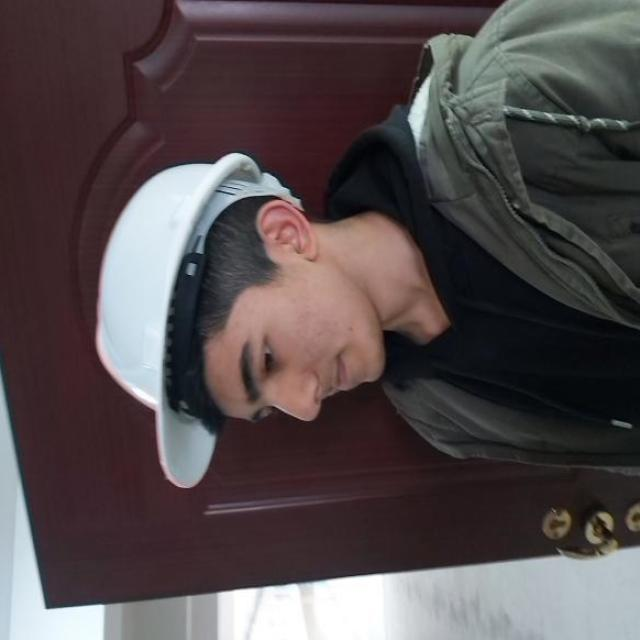helmet: (93, 151, 304, 488)
